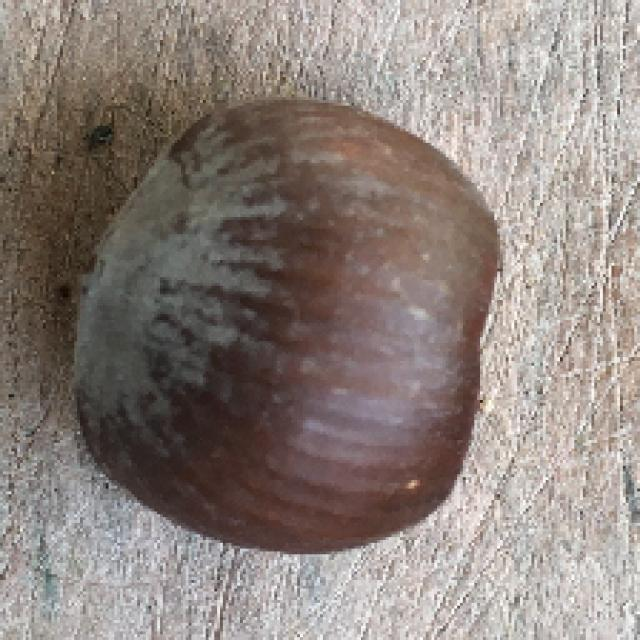damagedHazelnut: (60, 88, 518, 549)
